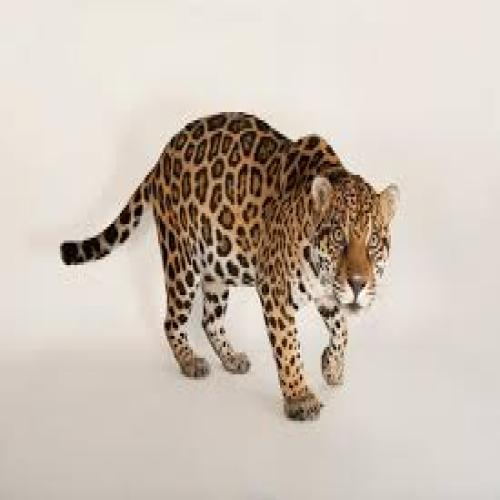jaguar_not-endangered: (59, 111, 401, 422)
